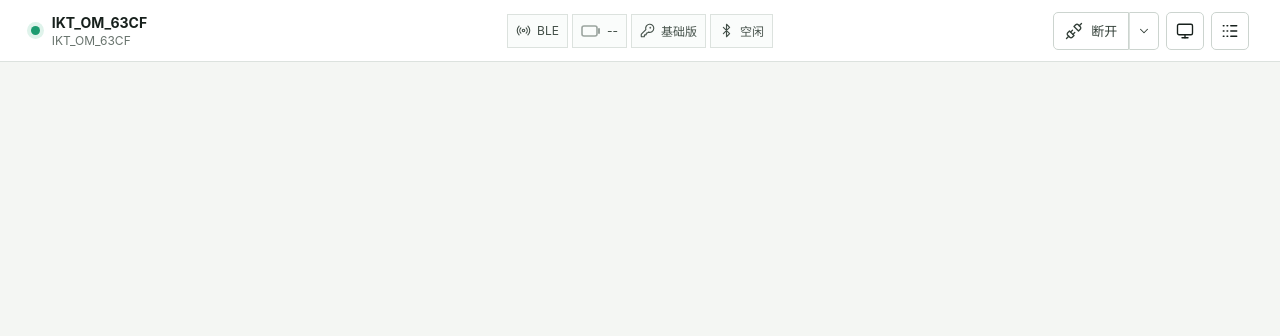
Test: displays the Bluetooth name when the reported device label is missing, without saving a fabricated label
The width and height of the screenshot is (1280, 336).
Click the button with class "connection-menu-toggle": (1144, 30) [1129, 12, 1159, 50]
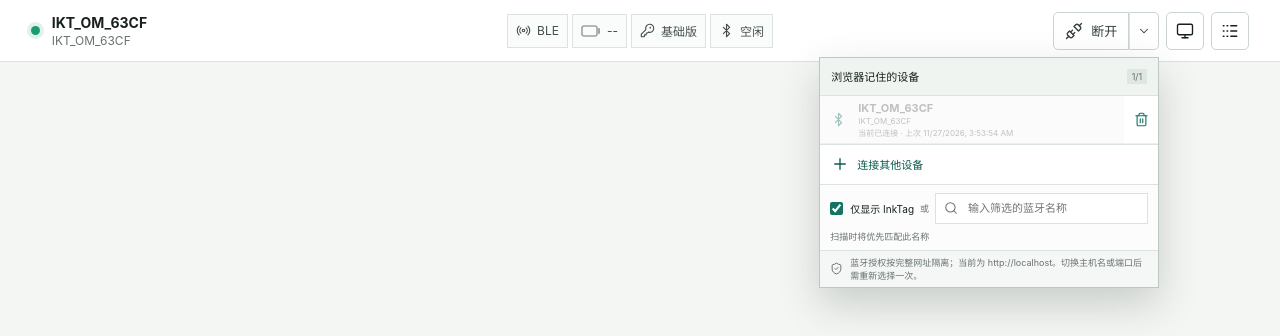
Expected: the 3rd text "IKT_OM_63CF" is shown, [858, 100, 933, 114]
Expected: the text with class "known-device-name" reads "IKT_OM_63CF", [858, 116, 911, 126]
